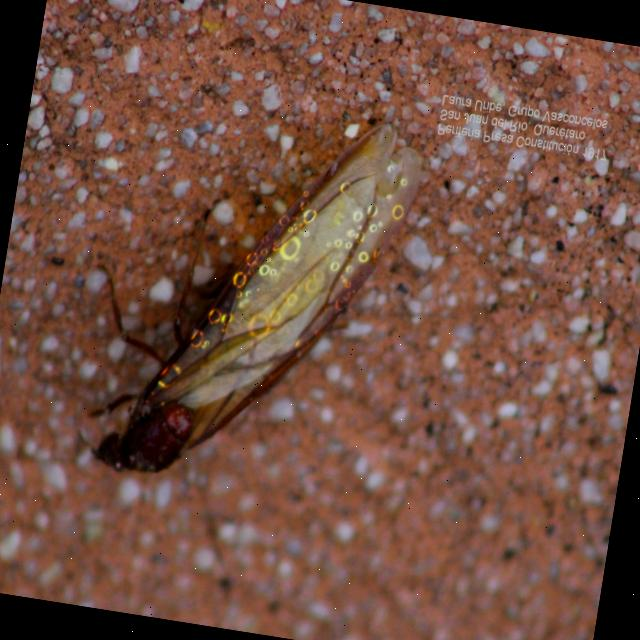Alive-Female-Alate: (65, 80, 429, 512)
